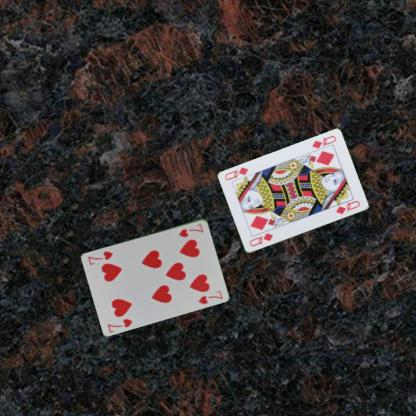7h: (176, 220, 205, 238), (105, 316, 134, 333)
Qd: (310, 133, 337, 154), (247, 230, 274, 248)
